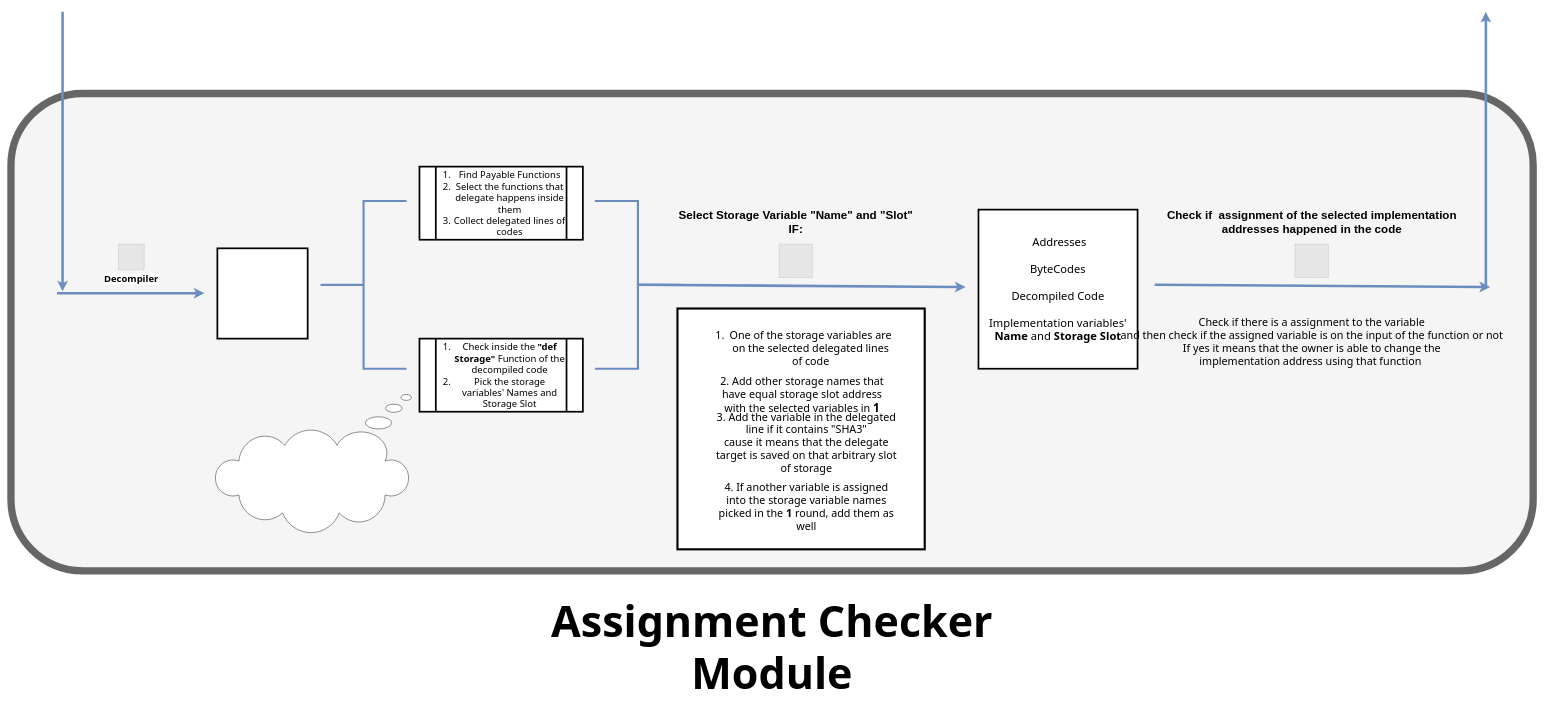
This 1544x708 diagram has some shape labels left out. Grey dashed boxes stand in for pictures. Each missing label, with the box of its shape:
Addresses ByteCodes + Decompiled Code: (216, 247, 308, 339)
Storage Variable Named Storage Variable Memory Slot: (214, 394, 411, 533)
